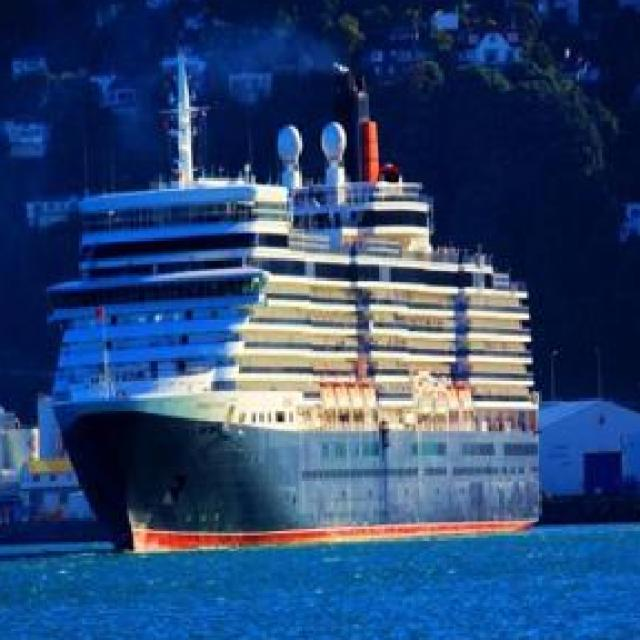passenger ship: (51, 120, 548, 553)
